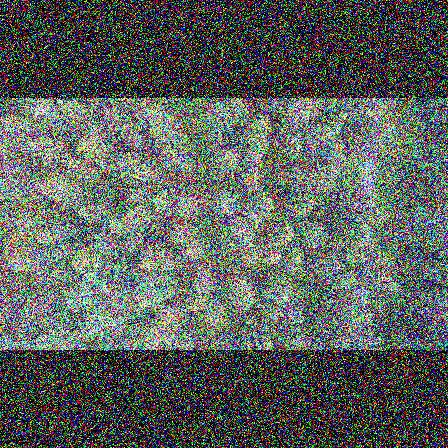Sick: (303, 220, 329, 247), (240, 200, 266, 225), (227, 218, 250, 241), (25, 98, 50, 119), (83, 121, 104, 139)
